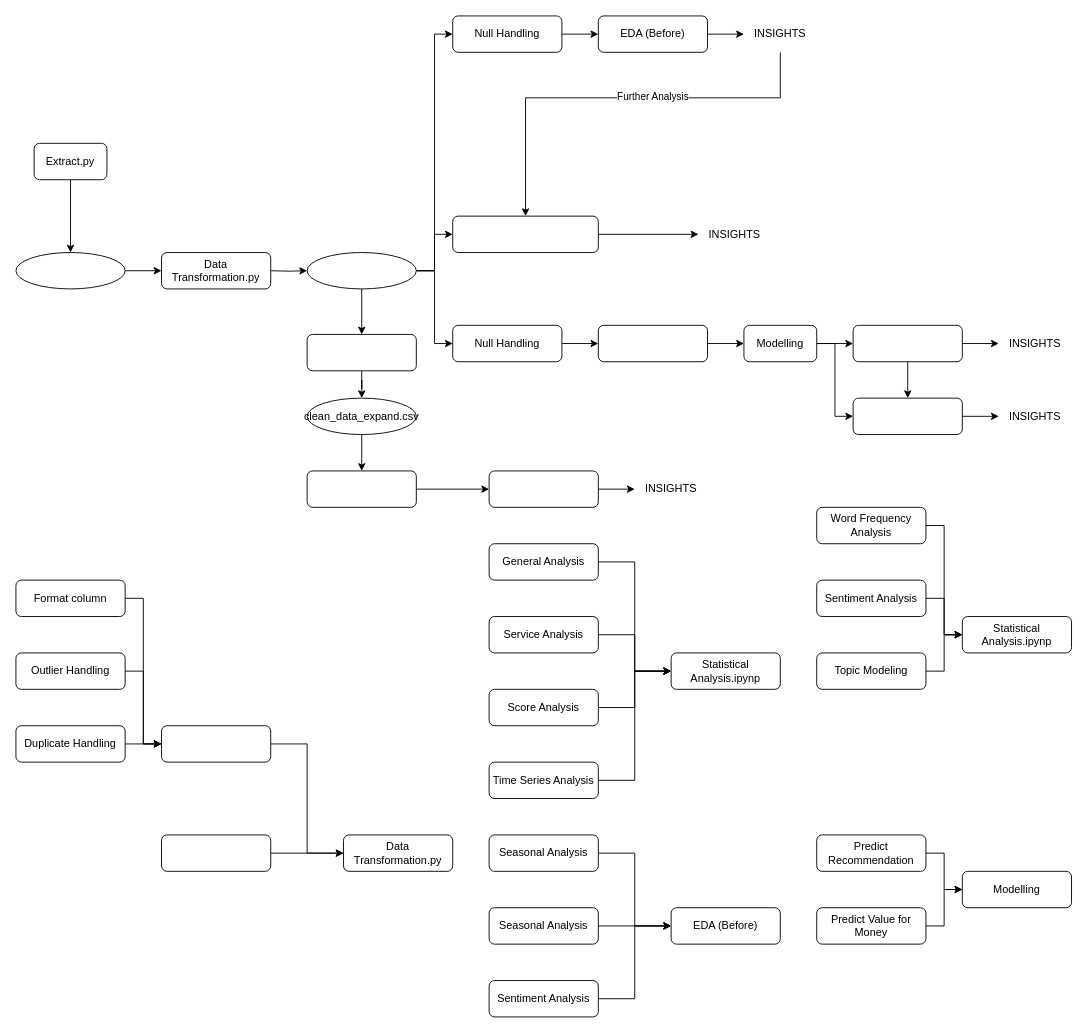
Some shapes in this 1087 by 1033 pixel diagram are drawn without their labels. Here are the shapes that lost their labels. From the top down, the centre of each, then its label:
At (525,234): "Review_Analysis.ipynp".
At (70,270): "raw_data.csv".
At (361,270): "clean_data.csv".
At (361,352): "feature_engineering .py".
At (652,343): "Feature Engineering".
At (907,343): "Weight and Result".
At (907,416): "EDA (After)".
At (361,488): "Data Model".
At (543,488): "Dashboards".
At (216,743): "Data Cleaning".
At (216,852): "Transformation".
